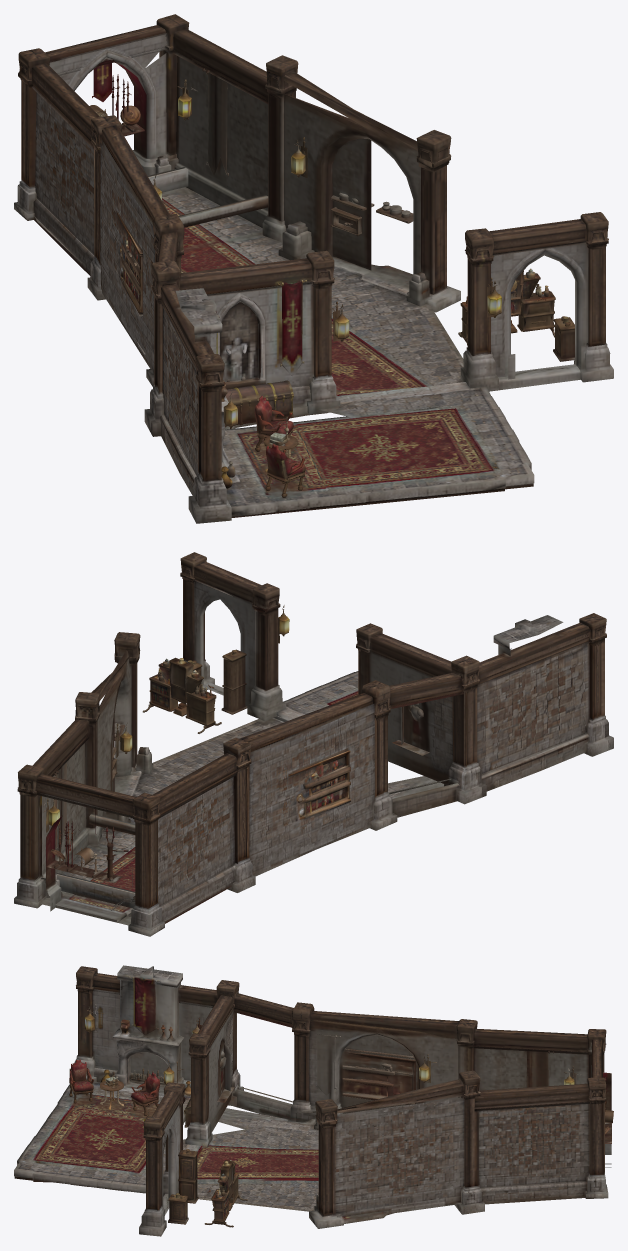
Rendered from medieval hall 3d model.glb.
The picture shows the model from 3 angles, top to bottom: view 1: azimuth 30°, elevation 25°; view 2: azimuth 150°, elevation 25°; view 3: azimuth 270°, elevation 25°; orthographic projection. The views are drawn at different scales.
Parts seen in each view (by area): view 1: tripo_28dce533_2447_431d_bc9e_8dd0a3dc720b; view 2: tripo_28dce533_2447_431d_bc9e_8dd0a3dc720b; view 3: tripo_28dce533_2447_431d_bc9e_8dd0a3dc720b.
Boxes of the visible parts, box(x1,y1,x2,y2) form: tripo_28dce533_2447_431d_bc9e_8dd0a3dc720b: box(14, 14, 613, 523); tripo_28dce533_2447_431d_bc9e_8dd0a3dc720b: box(14, 552, 613, 936); tripo_28dce533_2447_431d_bc9e_8dd0a3dc720b: box(14, 965, 613, 1236).
Size of the model in its own units: 0.6431 by 0.2456 by 0.9995.
Materials: 1 (1 with a texture image).
